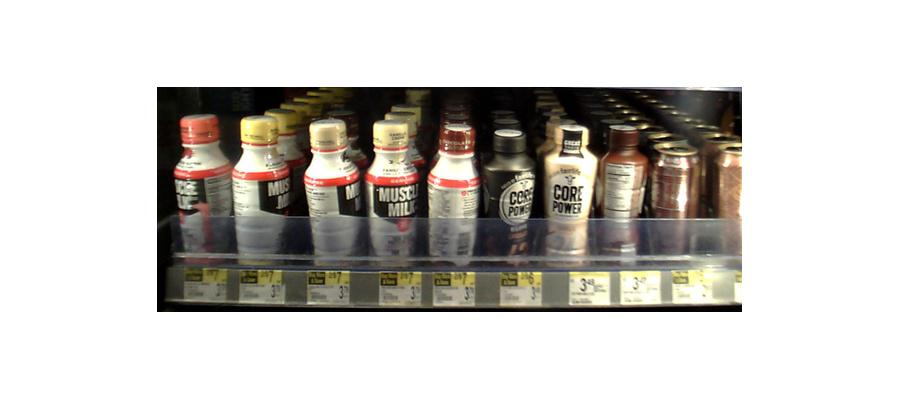bottle: (234, 117, 300, 263), (174, 113, 234, 261), (305, 124, 364, 264), (426, 121, 480, 266), (481, 124, 535, 264), (542, 125, 597, 261), (365, 124, 420, 260), (600, 122, 648, 263), (651, 137, 703, 258)
